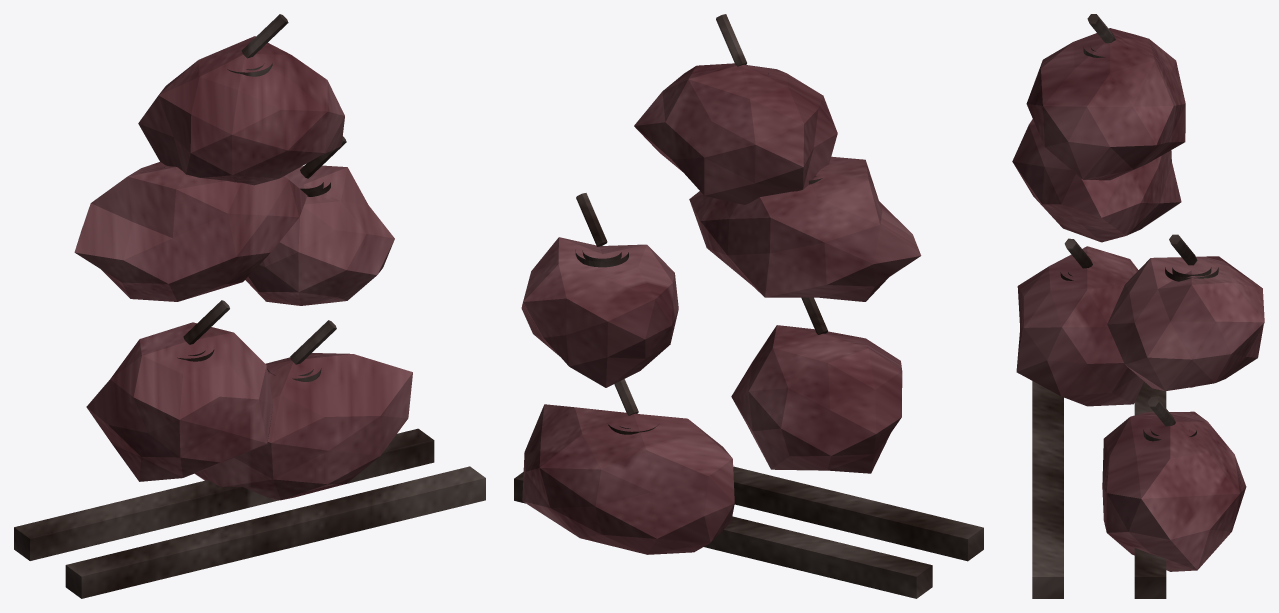
Rendered from 0808_sack_stack_08.glb.
3 views of the same model, side by side, from view 1: azimuth 30°, elevation 25°; view 2: azimuth 150°, elevation 25°; view 3: azimuth 270°, elevation 25° (orthographic).
Parts seen in each view (by area): view 1: cloth, wood_dark; view 2: cloth, wood_dark; view 3: cloth, wood_dark.
Part boxes in pixels (left/top/right/bottom): cloth: left=74, top=36, right=412, bottom=500; wood_dark: left=14, top=14, right=485, bottom=598; cloth: left=521, top=63, right=921, bottom=554; wood_dark: left=514, top=14, right=983, bottom=598; cloth: left=1012, top=28, right=1264, bottom=571; wood_dark: left=1032, top=14, right=1218, bottom=598.
Size of the model in its own units: 1.9 by 2.35 by 1.04.
2 materials, 2 textured.
